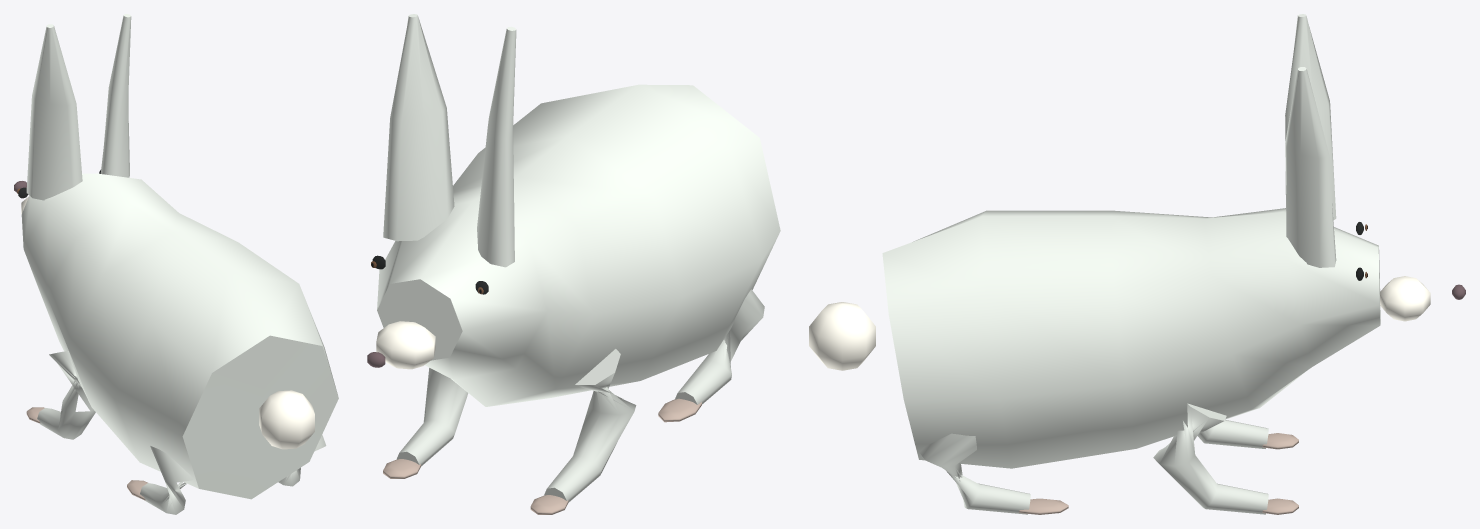
File: rabbit_mobile.glb
3 views of the same model, side by side, from view 1: azimuth 30°, elevation 25°; view 2: azimuth 150°, elevation 25°; view 3: azimuth 270°, elevation 25° (orthographic). The views are drawn at different scales.
Visible parts, largest first — view 1: RabbitOrganicBody, Ear, Ear2, TailPivot, Leg_LF, Leg_LH; view 2: RabbitOrganicBody, Ear2, Ear, Leg_LF, Leg_RF, Leg_LH, Muzzle, Paw_LH, Paw_LF, Paw_RF; view 3: RabbitOrganicBody, Ear2, Leg_RF, TailPivot, Leg_RH, Ear, Muzzle, Leg_LF.
Boxes of the visible parts, left/top/right/bottom form: RabbitOrganicBody: left=21, top=173, right=338, bottom=499; Ear: left=26, top=24, right=82, bottom=200; Ear2: left=100, top=14, right=131, bottom=177; TailPivot: left=259, top=390, right=314, bottom=449; Leg_LF: left=37, top=351, right=95, bottom=439; Leg_LH: left=140, top=446, right=193, bottom=514; RabbitOrganicBody: left=377, top=84, right=780, bottom=406; Ear2: left=383, top=14, right=454, bottom=241; Ear: left=477, top=26, right=516, bottom=267; Leg_LF: left=544, top=349, right=636, bottom=502; Leg_RF: left=397, top=368, right=468, bottom=466; Leg_LH: left=675, top=289, right=764, bottom=404; Muzzle: left=376, top=321, right=435, bottom=369; Paw_LH: left=658, top=398, right=701, bottom=422; Paw_LF: left=530, top=495, right=568, bottom=514; Paw_RF: left=383, top=459, right=420, bottom=478; RabbitOrganicBody: left=882, top=208, right=1380, bottom=468; Ear2: left=1285, top=67, right=1336, bottom=267; Leg_RF: left=1153, top=403, right=1268, bottom=514; TailPivot: left=809, top=302, right=875, bottom=370; Leg_RH: left=919, top=433, right=1030, bottom=514; Ear: left=1285, top=14, right=1336, bottom=220; Muzzle: left=1380, top=276, right=1430, bottom=321; Leg_LF: left=1197, top=419, right=1268, bottom=448.
Bounding box in the file's own units: 1.59 × 2.77 × 3.72.
